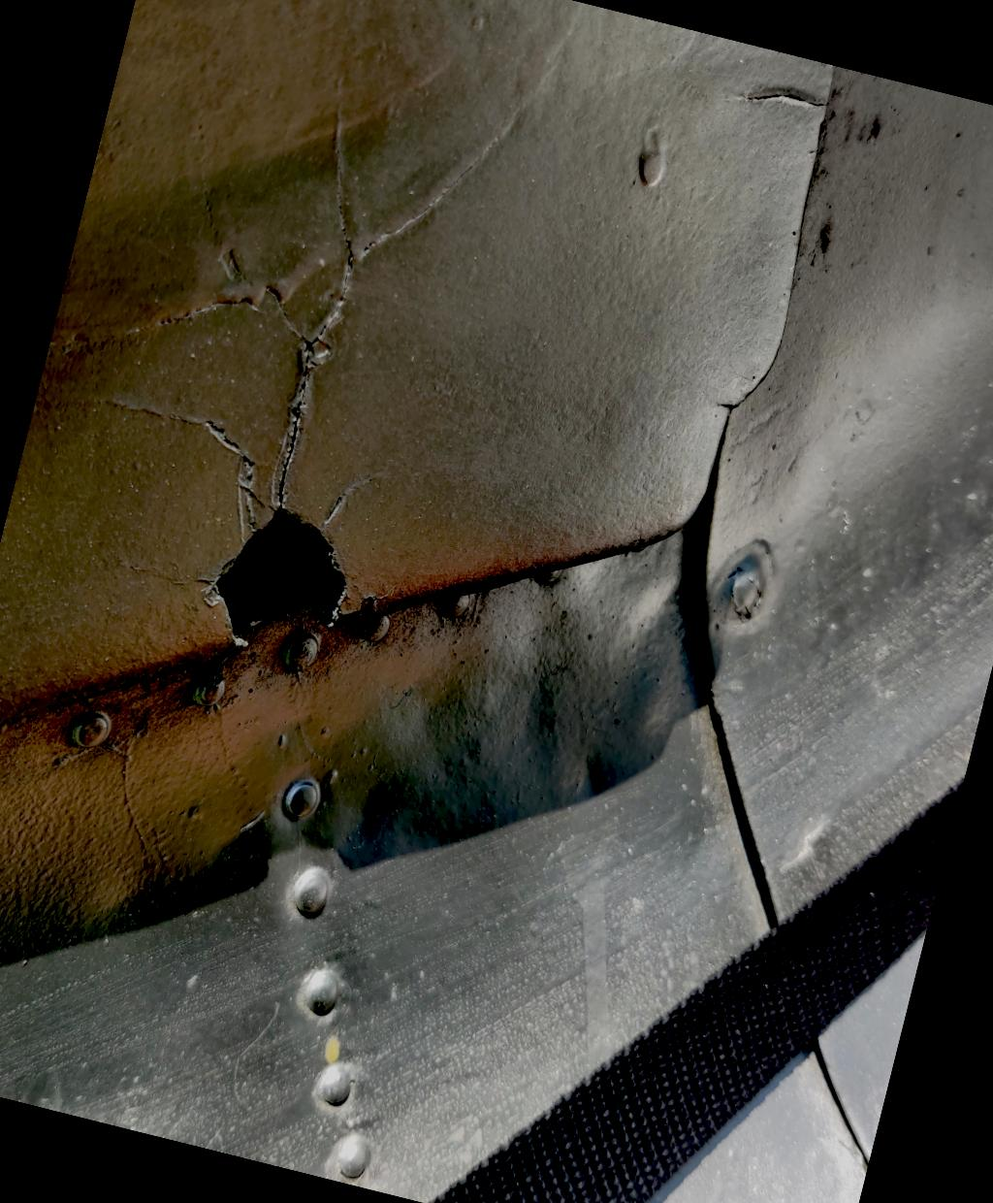crack: (108, 194, 509, 745)
